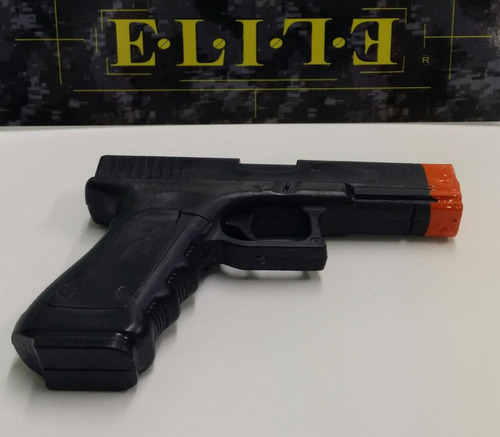Arma Falsa: (13, 148, 466, 388)
